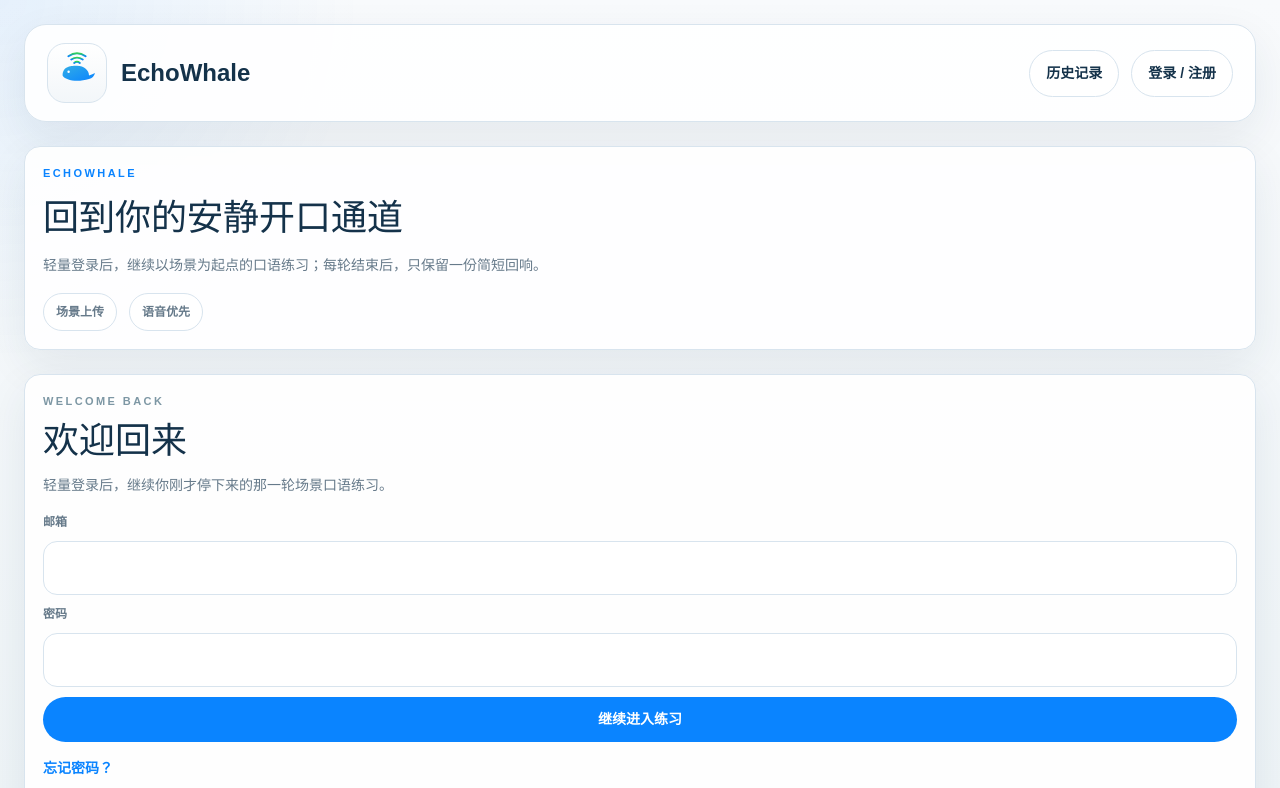
it: App › shows a localized login validation error for invalid email format
The image size is (1280, 788).
Type "not-an-email" into the field labelled "邮箱" at x=640, y=568, box [43,541,1237,595]
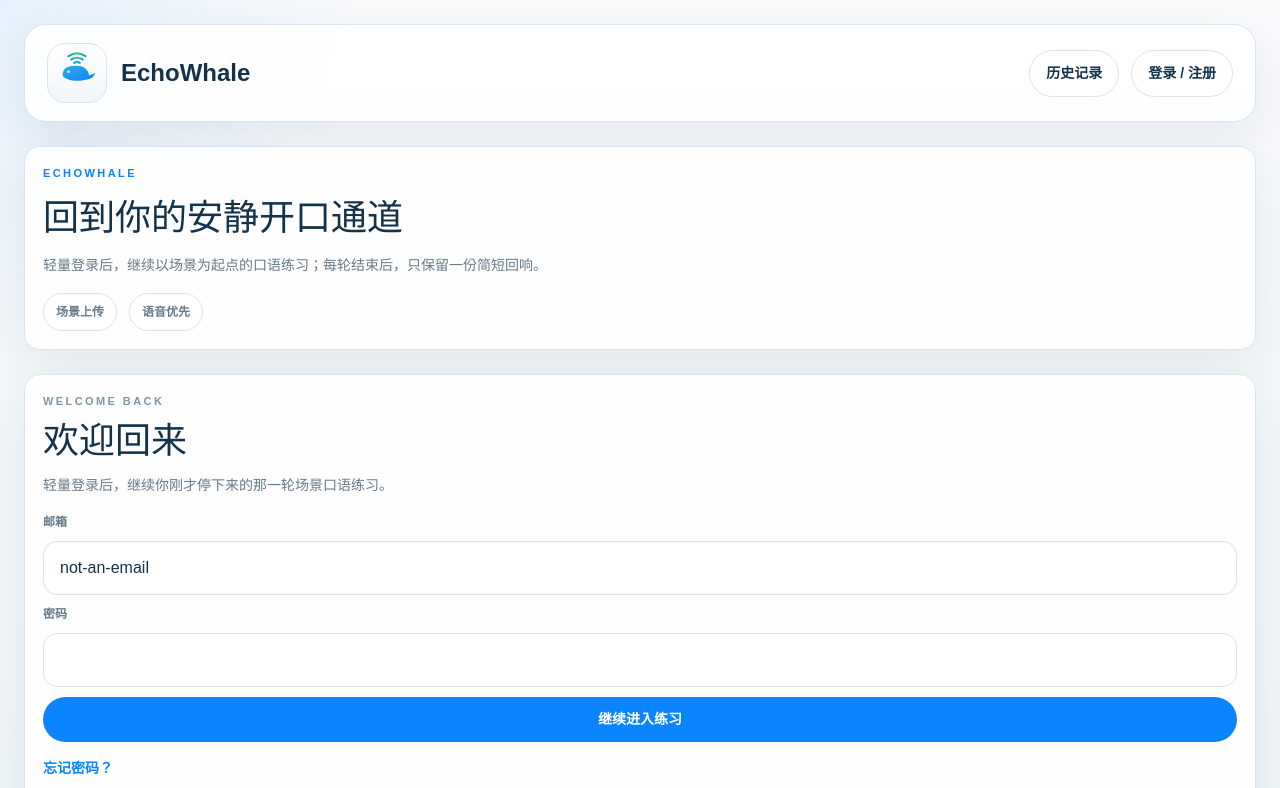
Type "secret123" into the password field labelled "密码" at x=640, y=660, box [43,633,1237,687]
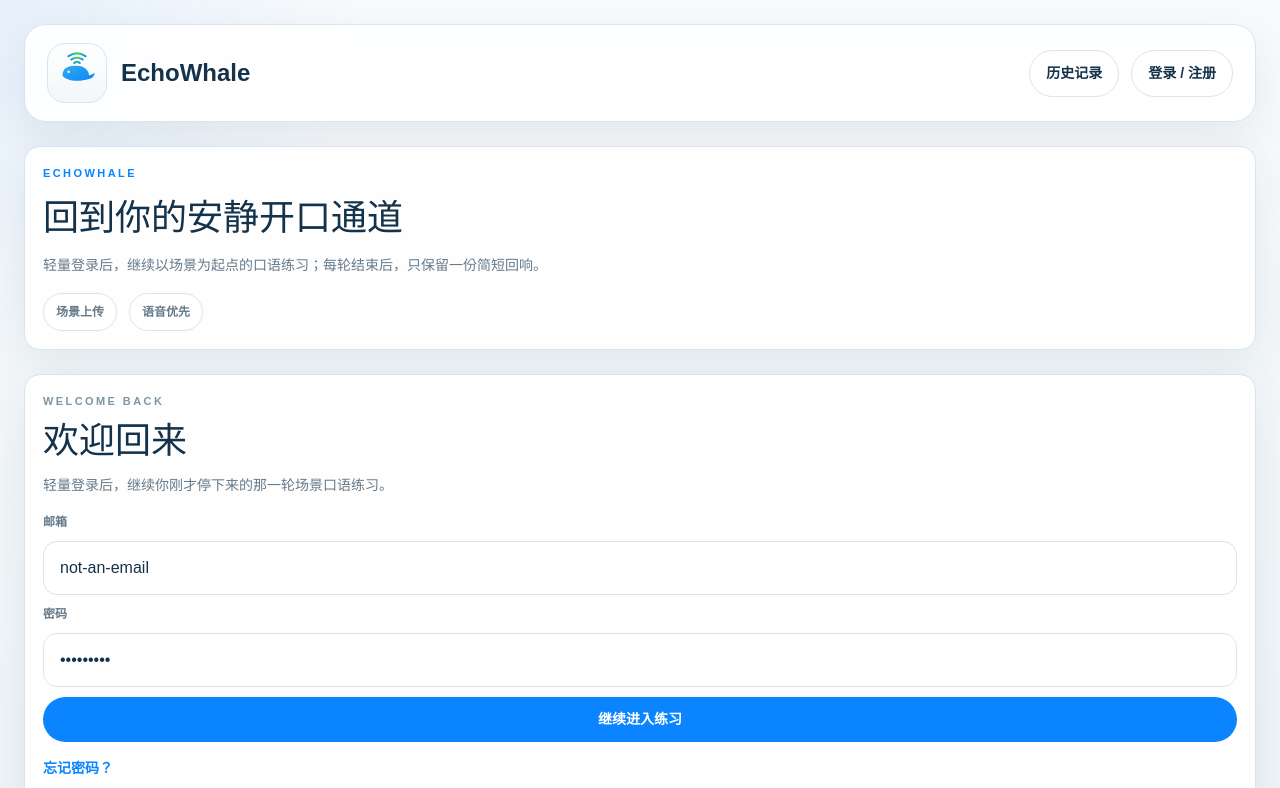
Click the button "继续进入练习" at x=640, y=719, box [43,697,1237,742]
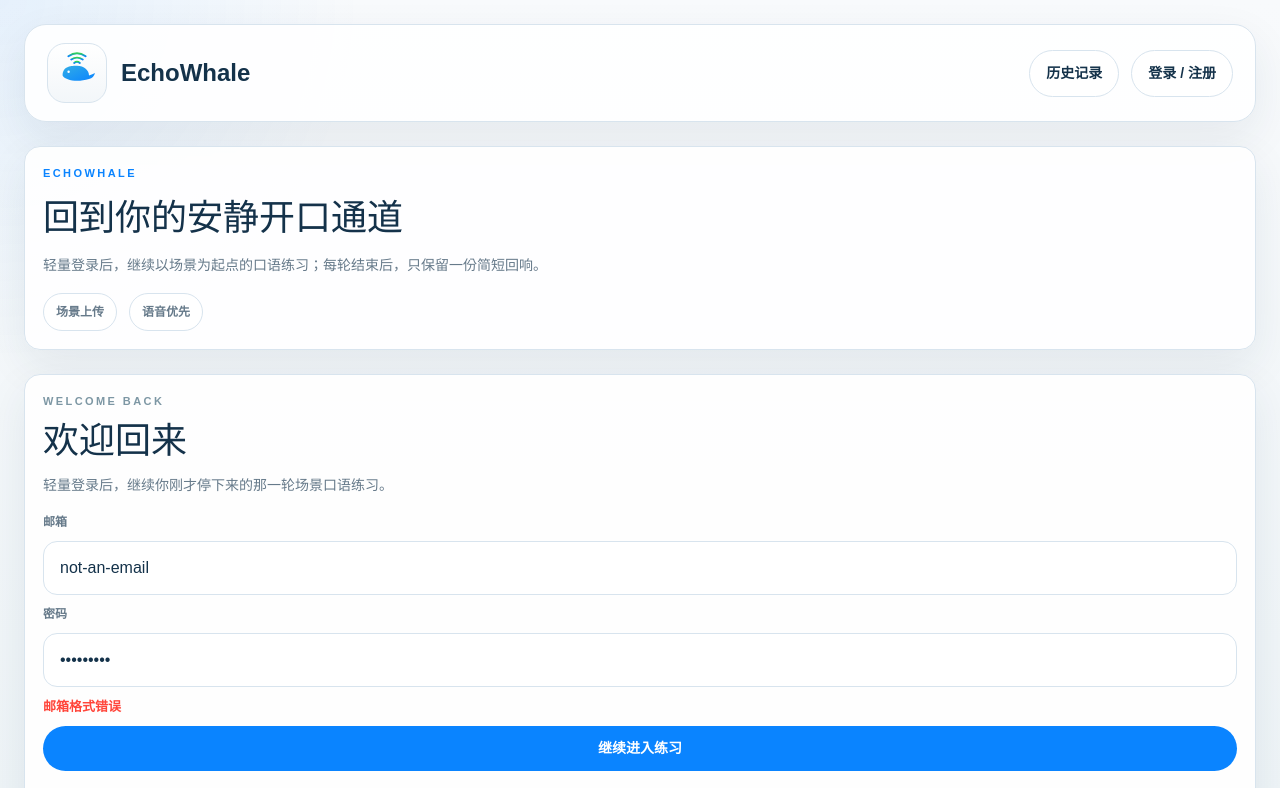
Expected: the text "邮箱格式错误" is shown, [43,699,121,714]
